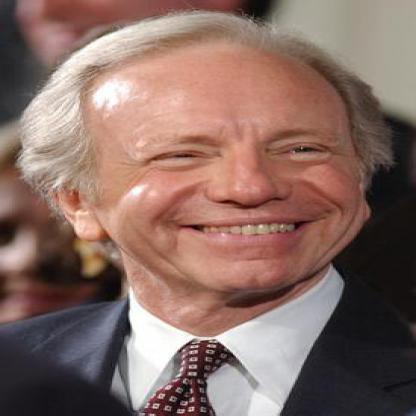face: (77, 23, 374, 299)
